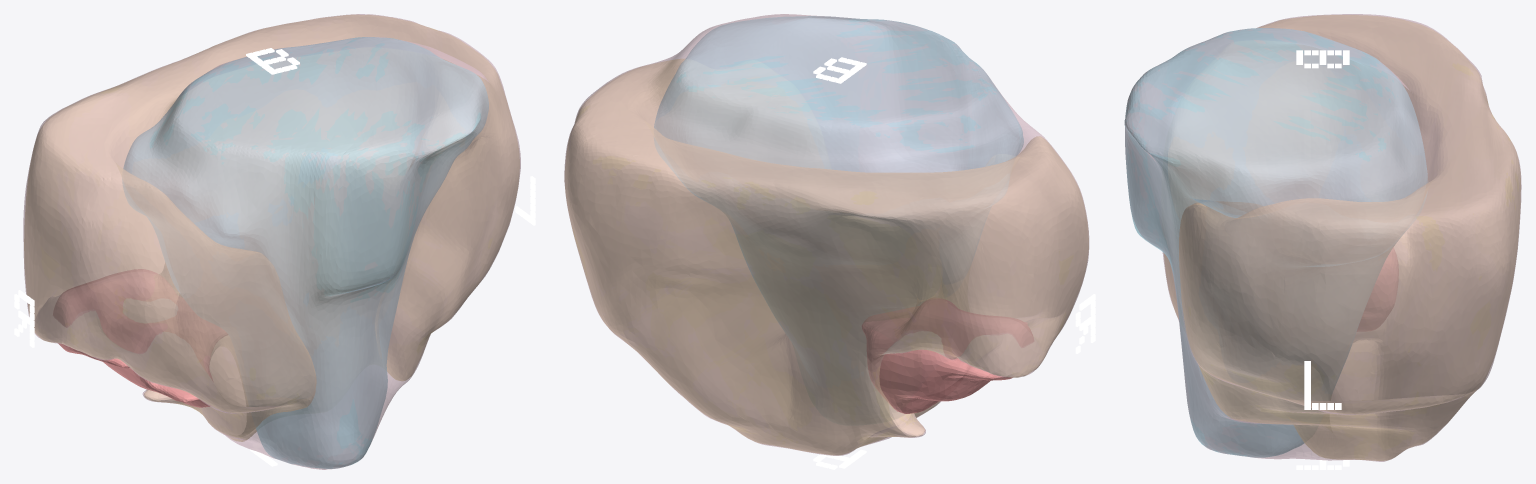
The picture shows the model from 3 angles, left to right: view 1: azimuth 30°, elevation 25°; view 2: azimuth 150°, elevation 25°; view 3: azimuth 270°, elevation 25°; orthographic projection. The views are drawn at different scales.
Visible parts, largest first — view 1: prostate_gland, peripheral_zone, transition_zone, lesion_01, pv_ar_marker_B, pv_ar_marker_R; view 2: prostate_gland, peripheral_zone, transition_zone, lesion_01, pv_ar_marker_B, pv_ar_marker_R; view 3: prostate_gland, peripheral_zone, transition_zone, lesion_01, pv_ar_marker_B, pv_ar_marker_L, pv_ar_marker_A.
Part boxes in pixels (left/top/right/bottom): prostate_gland: left=23, top=14, right=520, bottom=469; peripheral_zone: left=24, top=15, right=519, bottom=441; transition_zone: left=122, top=37, right=488, bottom=468; lesion_01: left=53, top=269, right=227, bottom=407; pv_ar_marker_B: left=246, top=48, right=299, bottom=74; pv_ar_marker_R: left=14, top=290, right=34, bottom=347; prostate_gland: left=564, top=14, right=1089, bottom=455; peripheral_zone: left=565, top=59, right=1088, bottom=454; transition_zone: left=654, top=16, right=1023, bottom=347; lesion_01: left=862, top=298, right=1033, bottom=413; pv_ar_marker_B: left=813, top=57, right=866, bottom=83; pv_ar_marker_R: left=1075, top=294, right=1095, bottom=353; prostate_gland: left=1124, top=14, right=1521, bottom=461; peripheral_zone: left=1164, top=15, right=1520, bottom=460; transition_zone: left=1124, top=28, right=1427, bottom=457; lesion_01: left=1357, top=248, right=1398, bottom=331; pv_ar_marker_B: left=1296, top=50, right=1349, bottom=68; pv_ar_marker_L: left=1304, top=361, right=1341, bottom=409; pv_ar_marker_A: left=1296, top=452, right=1349, bottom=469.
Bounding box in the file's own units: 0.0546 × 0.0409 × 0.0364.
